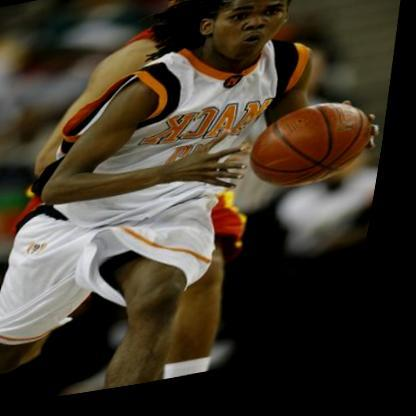basketball: (250, 105, 382, 205)
